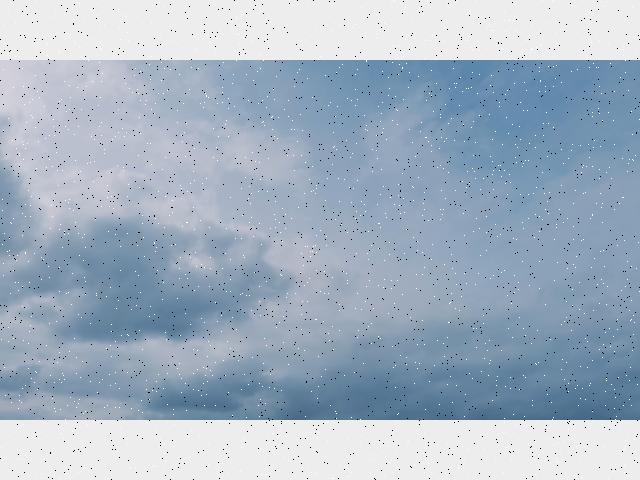Anti-Drone: (282, 307, 292, 316)
